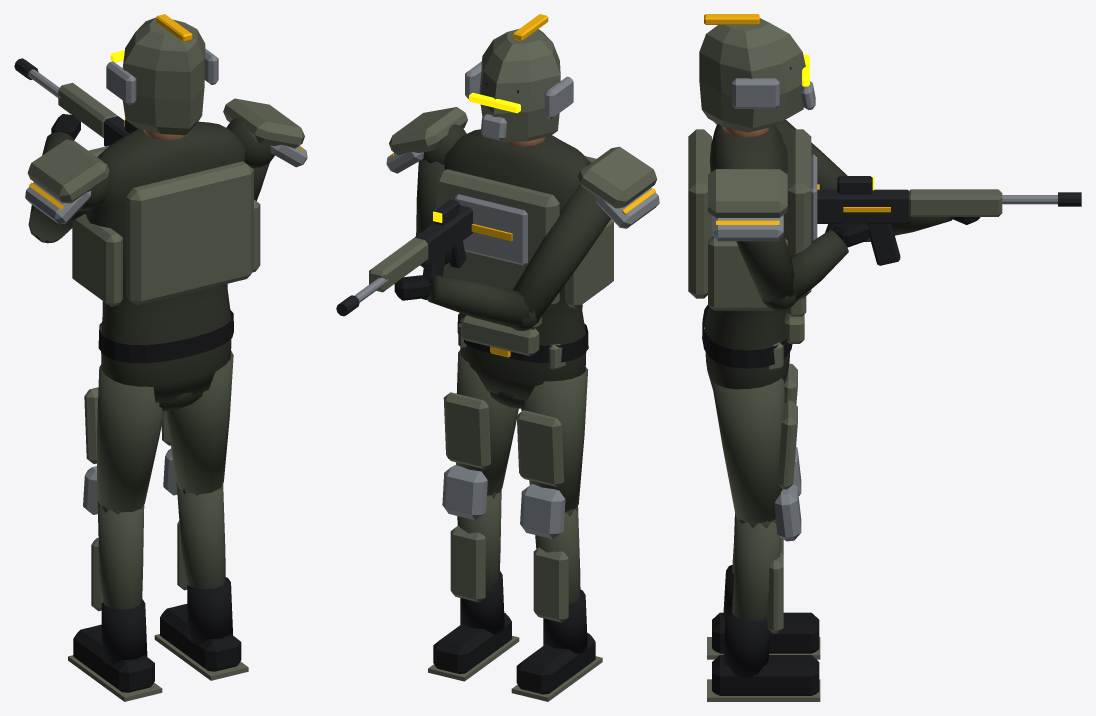
File: aegis.glb
3 views of the same model, side by side, from view 1: azimuth 30°, elevation 25°; view 2: azimuth 150°, elevation 25°; view 3: azimuth 270°, elevation 25° (orthographic). The views are drawn at different scales.
Visible parts, largest first — view 1: Aegis_Body; view 2: Aegis_Body; view 3: Aegis_Body.
Boxes of the visible parts, bbox=[...] form: Aegis_Body: bbox=[14, 14, 307, 701]; Aegis_Body: bbox=[336, 14, 659, 701]; Aegis_Body: bbox=[688, 14, 1081, 701].
Size of what is drawn, in the model's own units: 0.7288 by 1.8 by 0.9791.
Materials: 1 (1 with a texture image).
